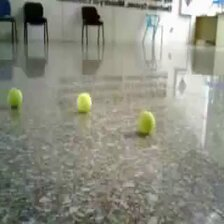tennis: (134, 112, 156, 134), (6, 87, 24, 106), (76, 92, 92, 110)
